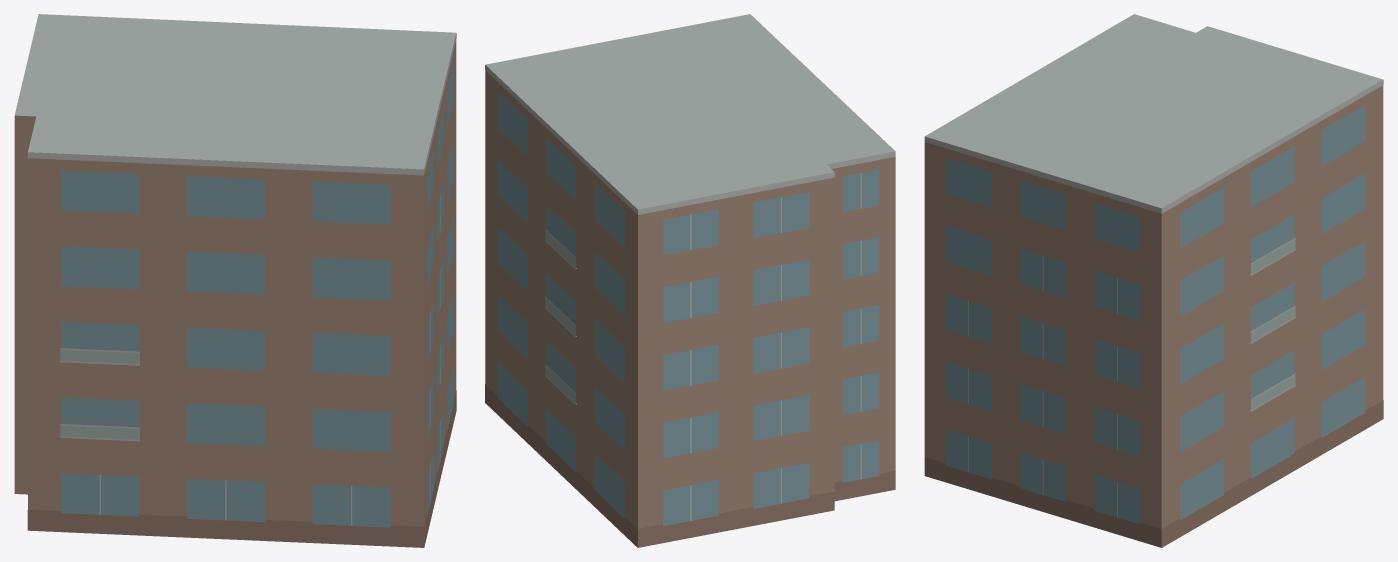
File: survey-upis-32539936.glb
The picture shows the model from 3 angles, left to right: view 1: azimuth 30°, elevation 25°; view 2: azimuth 150°, elevation 25°; view 3: azimuth 270°, elevation 25°; orthographic projection. The views are drawn at different scales.
Visible parts, largest first — view 1: survey-upis-32539936.tmp; view 2: survey-upis-32539936.tmp; view 3: survey-upis-32539936.tmp.
Boxes of the visible parts, bbox=[...] form: survey-upis-32539936.tmp: bbox=[14, 14, 456, 547]; survey-upis-32539936.tmp: bbox=[485, 14, 895, 547]; survey-upis-32539936.tmp: bbox=[924, 14, 1383, 547].
Bounding box in the file's own units: 18.73 × 15.25 × 18.69.
